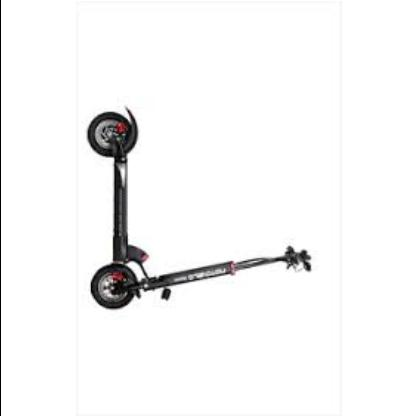bike: (88, 106, 311, 310)
